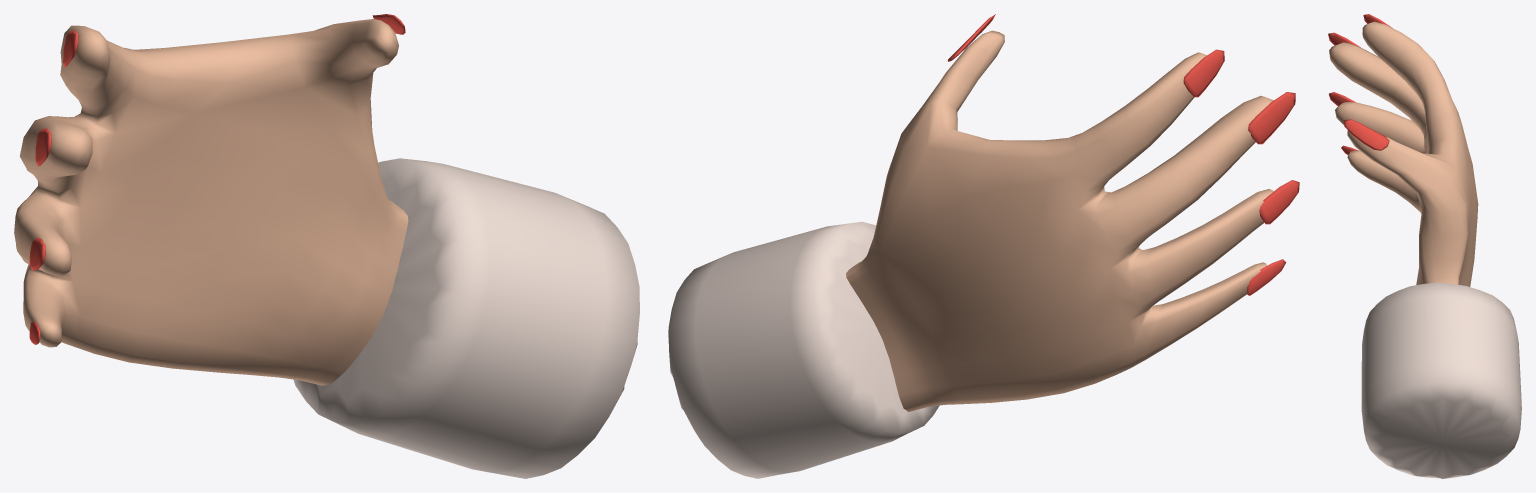
The model's file is hand_holdingcup2.fbx.
The picture shows the model from 3 angles, left to right: view 1: azimuth 30°, elevation 25°; view 2: azimuth 150°, elevation 25°; view 3: azimuth 270°, elevation 25°; orthographic projection. The views are drawn at different scales.
Parts seen in each view (by area): view 1: Cube.009; view 2: Cube.009; view 3: Cube.009.
Boxes of the visible parts, box(x1,y1,x2,y2) form: Cube.009: box(14, 14, 639, 478); Cube.009: box(668, 14, 1299, 478); Cube.009: box(1328, 14, 1521, 478).
Size of the model in its own units: 387 by 333 by 175.
